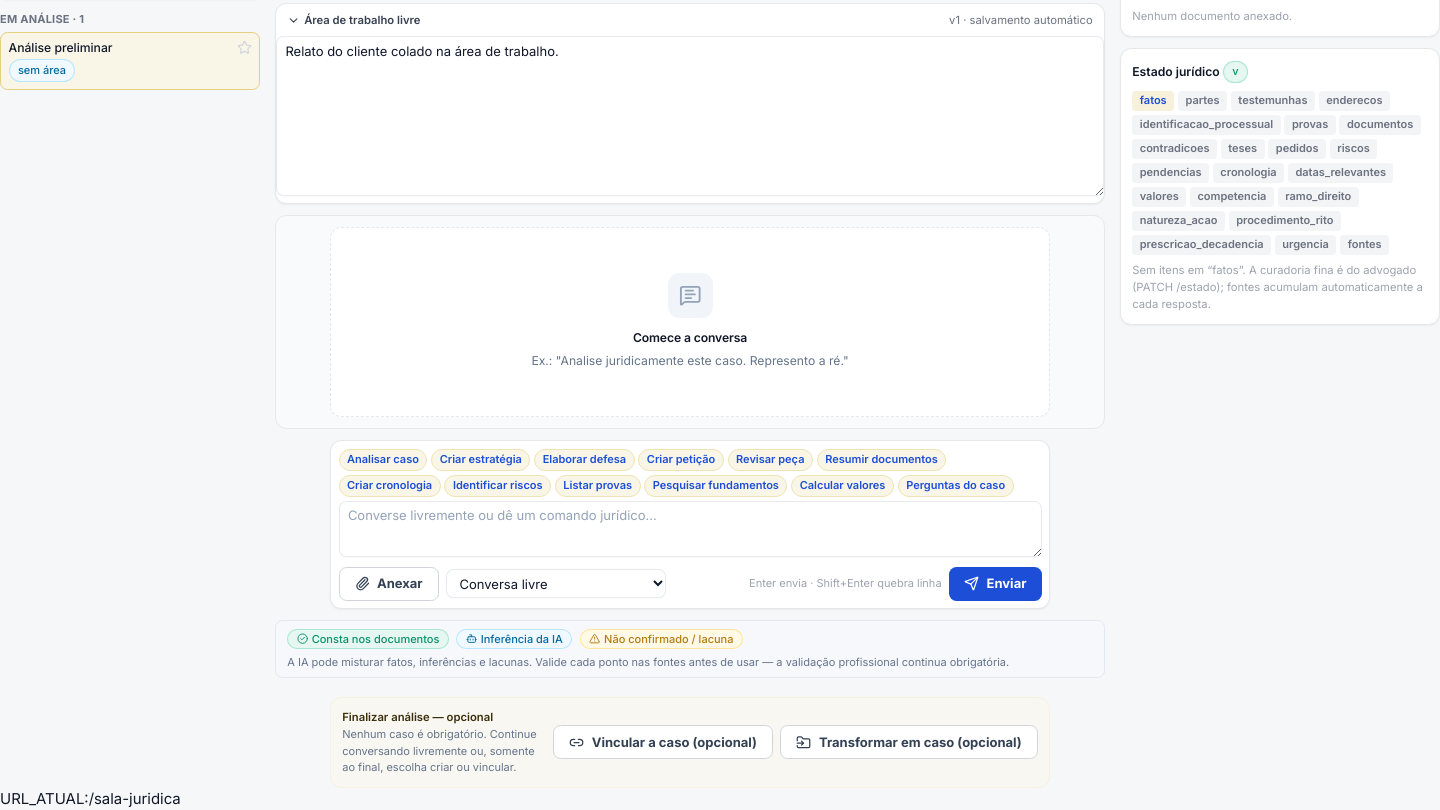
Sala Jurídica — wizard pré-preenche área e fatos da sessão › cai para workspace_texto quando o resumo do estado é string vazia
(page scrolled)
Expected: the text "Análise preliminar" is shown, [8, 40, 112, 55]
Click the button "Transformar em caso (opcional)" at (909, 742), box [780, 725, 1038, 759]
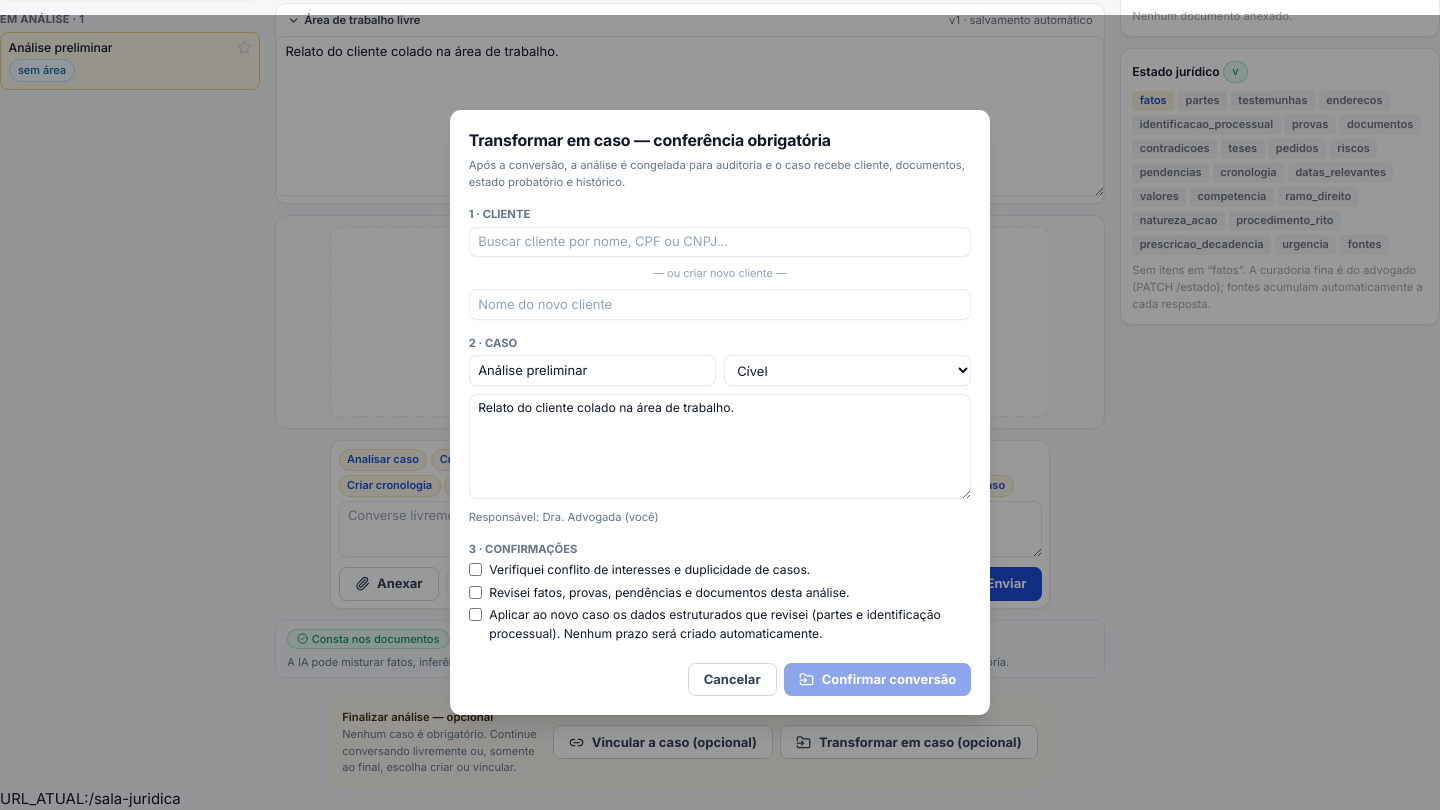
Expected: the heading "Transformar em caso — conferência obrigatória" is shown, [469, 131, 831, 150]
Expected: the text box with placeholder "Fatos do caso (pré-preenchidos da análise — confira e ajuste)" holds "Relato do cliente colado na área de trabalho.", [469, 394, 971, 498]
